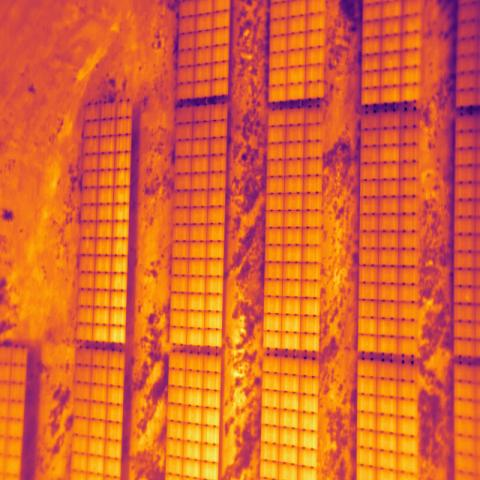fault: (82, 223, 94, 251)
